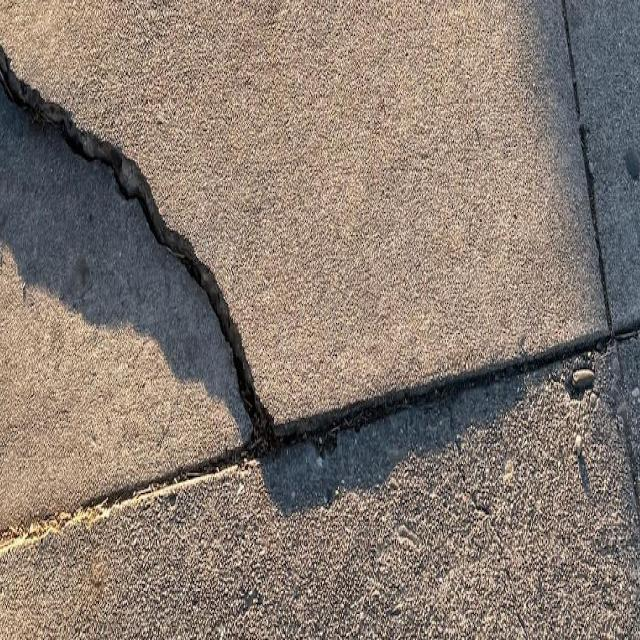hole: (6, 24, 306, 477)
